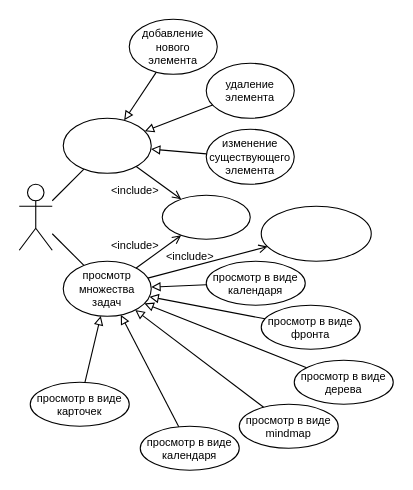
Some shapes in this 413 by 490 pixel diagram are drawn without their labels. The box of each missing label's shape, as (x1, y1, x2, y2) in pixels:
User: (18, 183, 52, 250)
выбор root: (161, 194, 250, 239)
изменение множества задач: (62, 117, 151, 173)
применение фильтров к множеству элементов: (260, 205, 371, 261)
